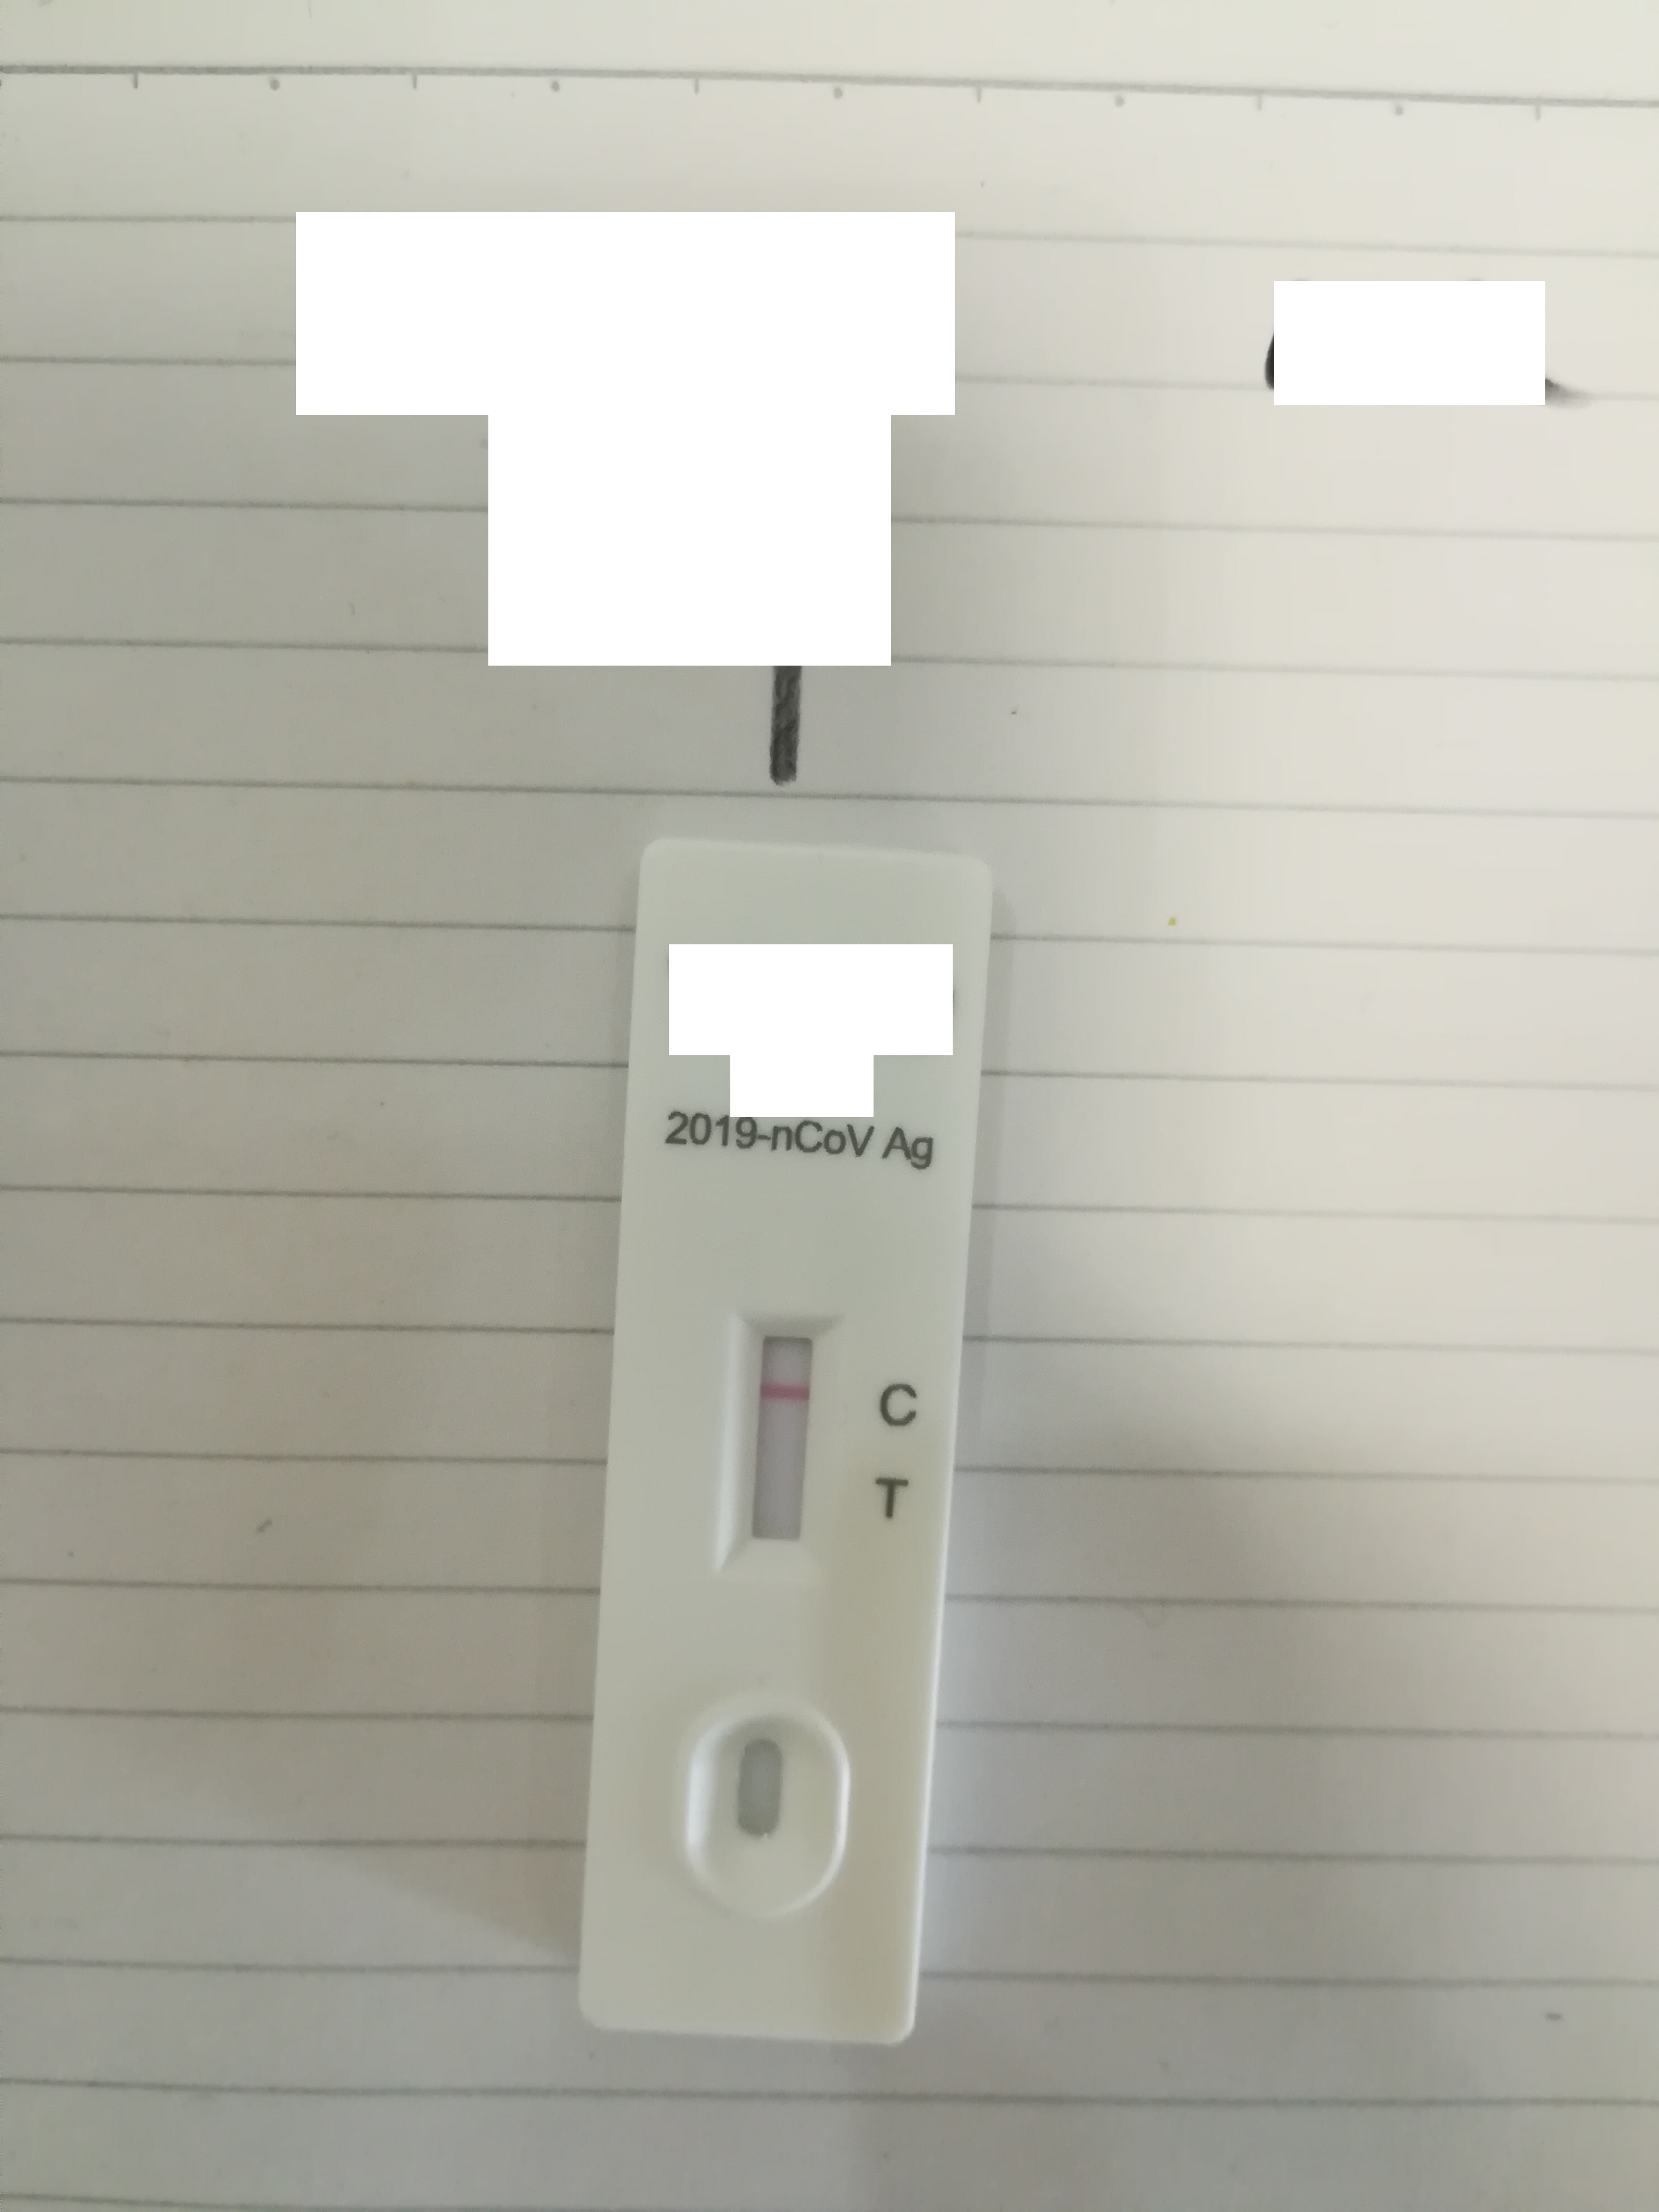negative: (730, 1308, 838, 1559)
